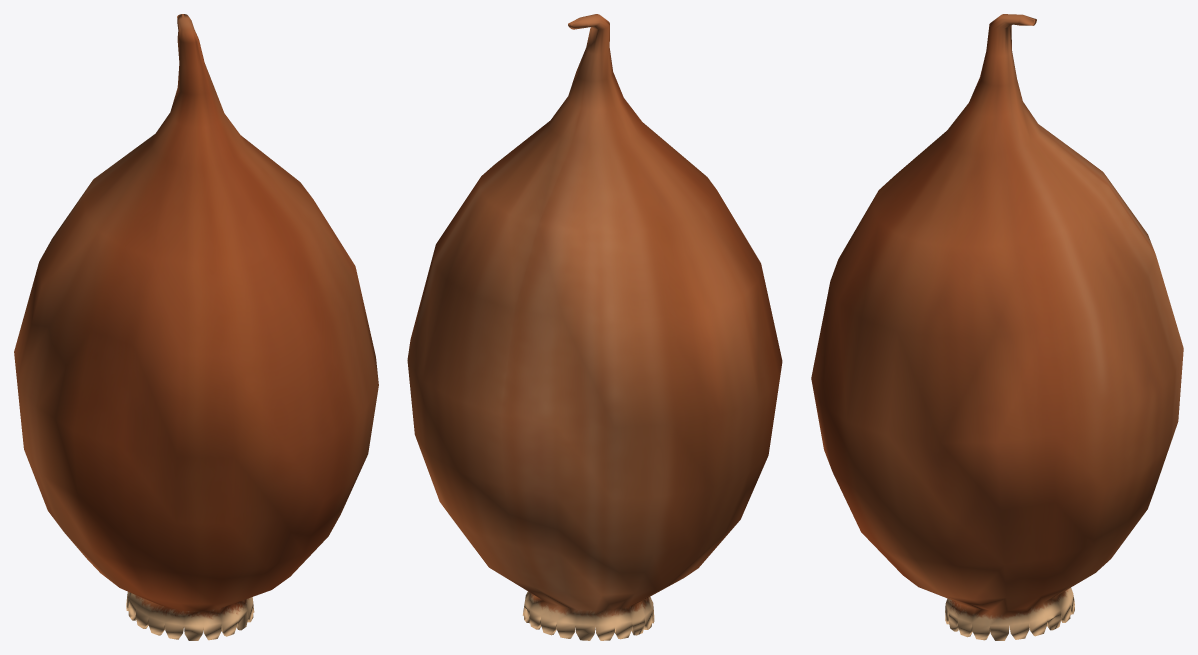
The model's file is Onion.fbx.
The picture shows the model from 3 angles, left to right: view 1: azimuth 30°, elevation 25°; view 2: azimuth 150°, elevation 25°; view 3: azimuth 270°, elevation 25°; orthographic projection. The views are drawn at different scales.
Visible parts, largest first — view 1: Onion.001; view 2: Onion.001; view 3: Onion.001.
Boxes of the visible parts, bbox=[...] form: Onion.001: bbox=[14, 14, 378, 640]; Onion.001: bbox=[407, 14, 782, 640]; Onion.001: bbox=[811, 14, 1183, 640].
Size of the model in its own units: 131 by 131 by 234.
1 material, 1 textured.
